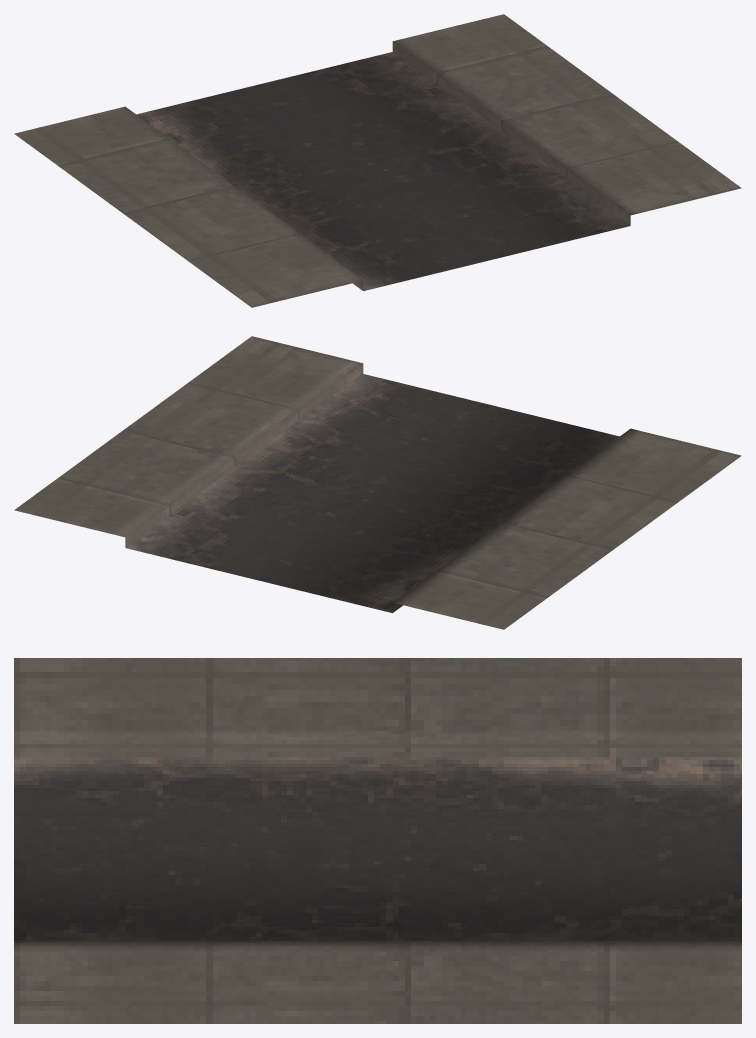
Rendered from road_section.glb.
The picture shows the model from 3 angles, top to bottom: view 1: azimuth 30°, elevation 25°; view 2: azimuth 150°, elevation 25°; view 3: azimuth 270°, elevation 25°; orthographic projection. The views are drawn at different scales.
Visible parts, largest first — view 1: Plane; view 2: Plane; view 3: Plane.
Boxes of the visible parts, bbox=[...] form: Plane: bbox=[14, 14, 741, 307]; Plane: bbox=[14, 336, 741, 629]; Plane: bbox=[14, 658, 741, 1023].
Bounding box in the file's own units: 4.71 × 0.097 × 3.96.
1 material, 1 textured.
